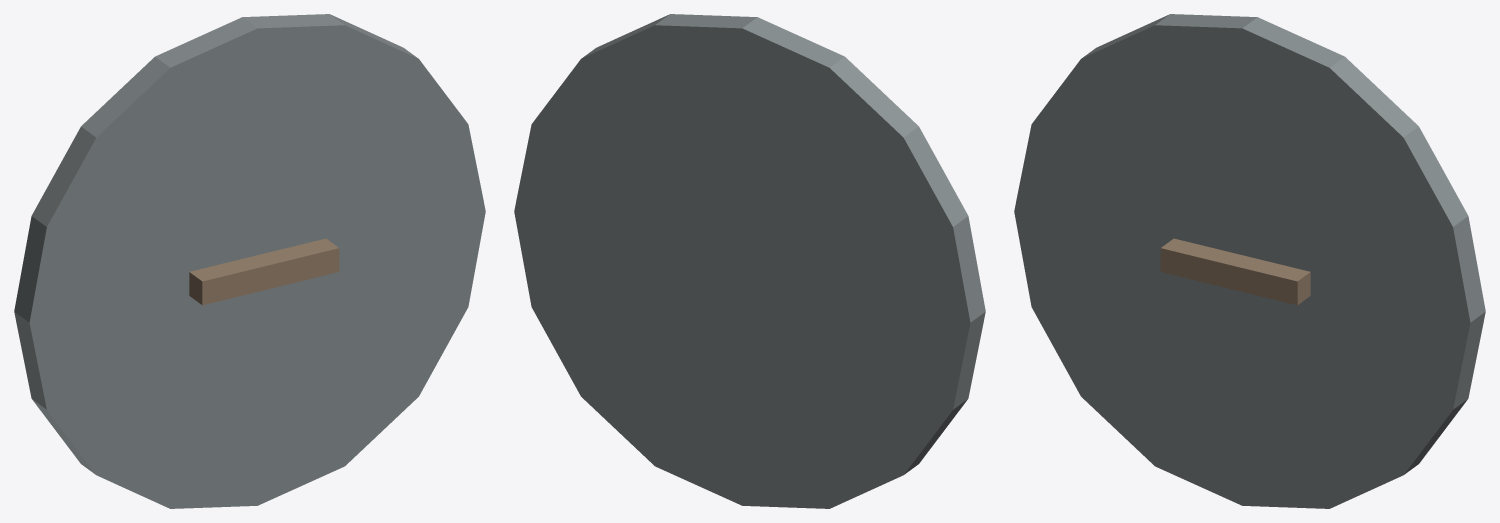
The model's file is EQ-SHIELD.glb.
3 renders of one model, left to right at view 1: azimuth 30°, elevation 25°; view 2: azimuth 150°, elevation 25°; view 3: azimuth 330°, elevation 25°, orthographic.
Visible parts, largest first — view 1: shield, handle; view 2: shield; view 3: shield, handle.
Part boxes in pixels (x1,y1,x2,y2): shield: (14,14,485,508); handle: (189,238,339,305); shield: (514,14,985,508); shield: (1014,14,1485,508); handle: (1160,238,1310,305).
Bounding box in the file's own units: 0.6 × 0.6 × 0.065.
